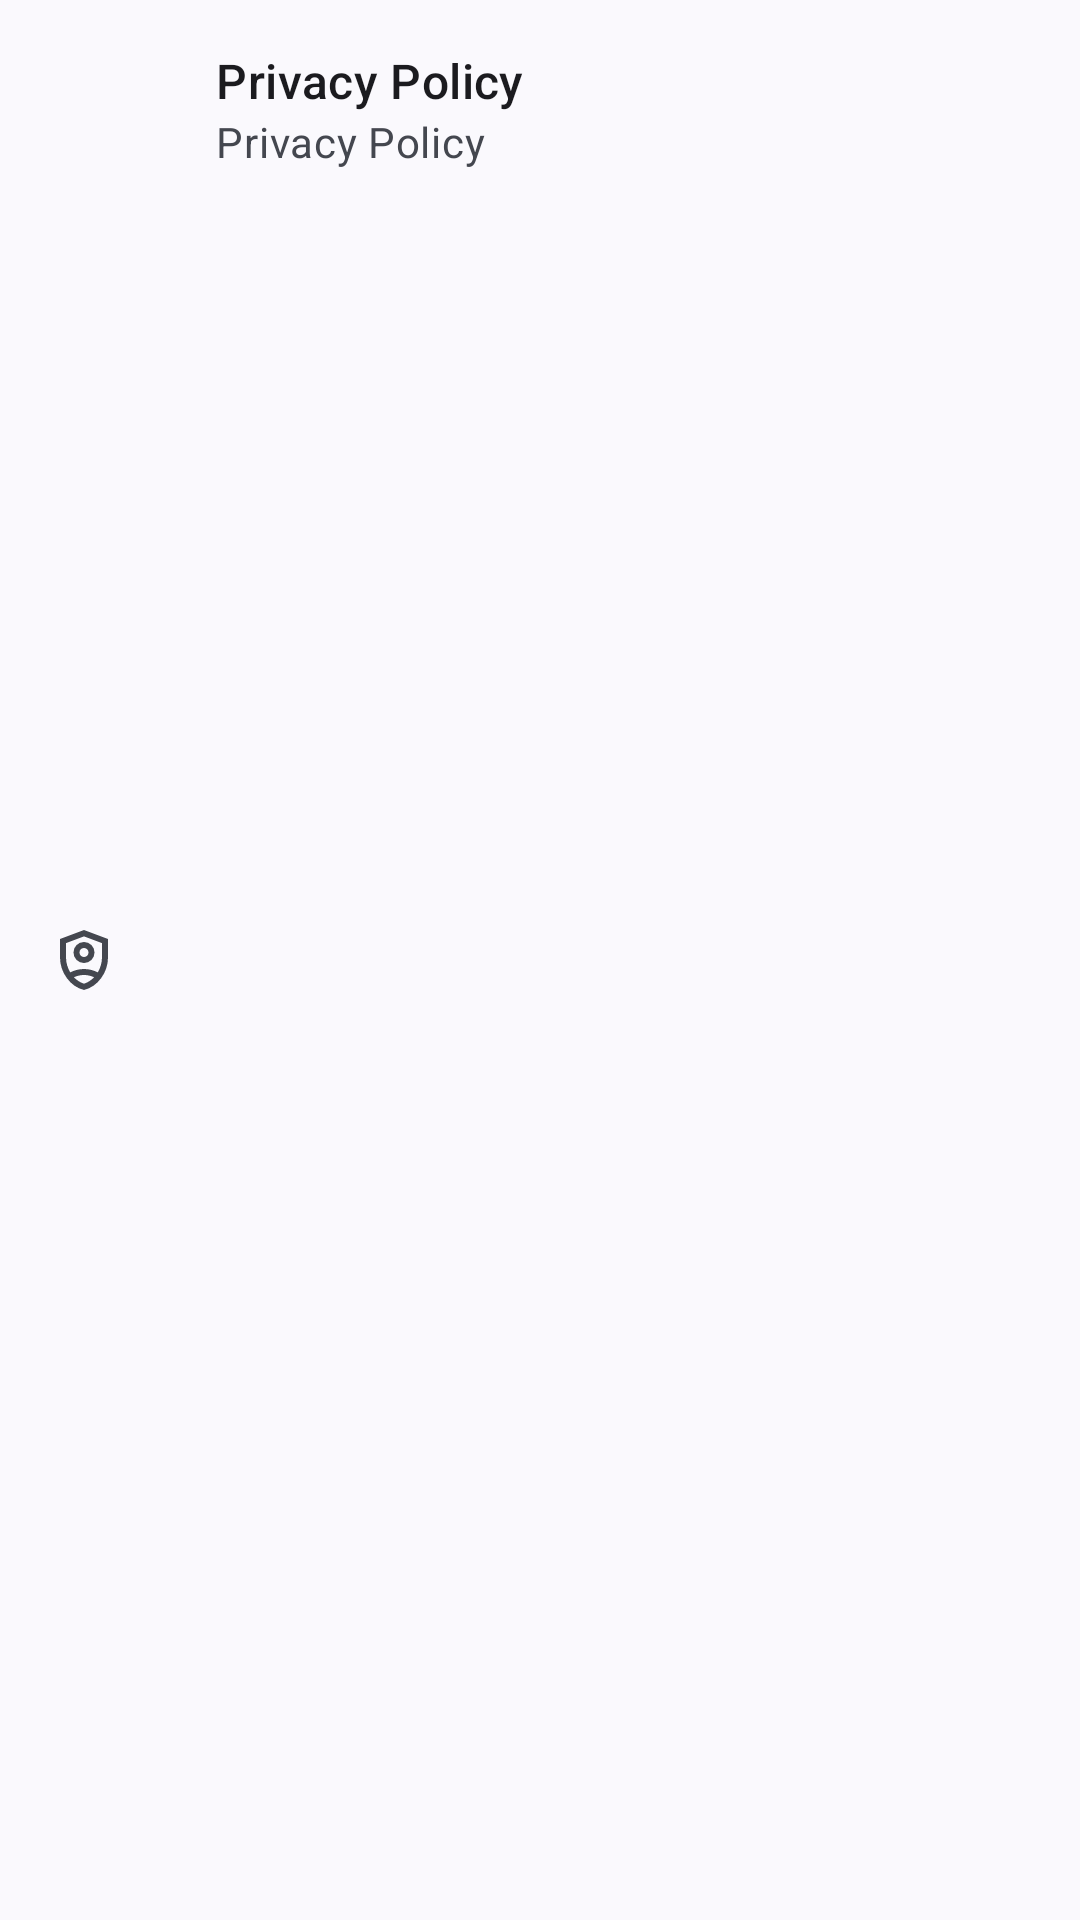

Where icons sit on this 1080px x 1920px app screen, as (x1, y1, x2, y2):
shield person: (60, 930, 108, 990)
